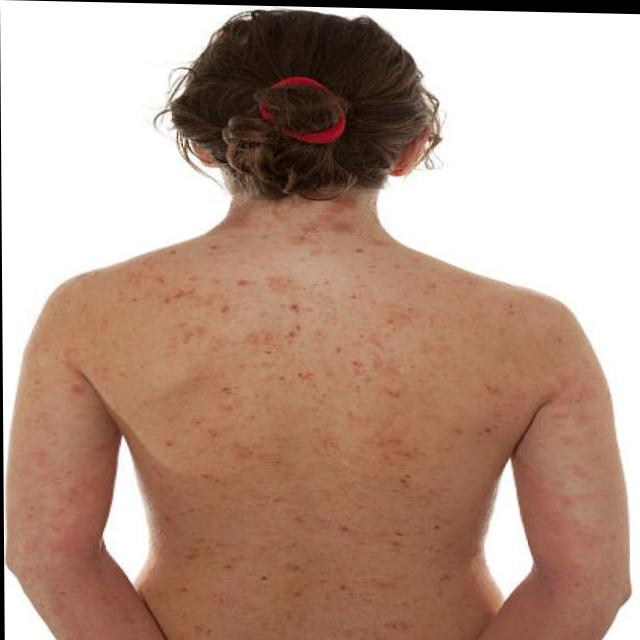no helmet: (164, 12, 442, 223)
